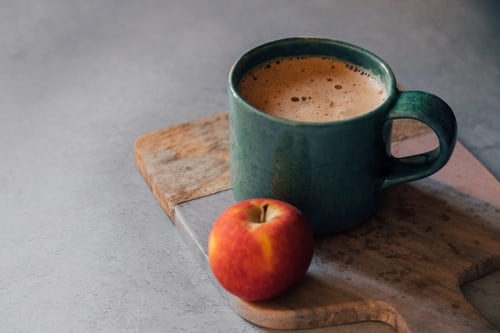apple: (205, 196, 316, 300)
